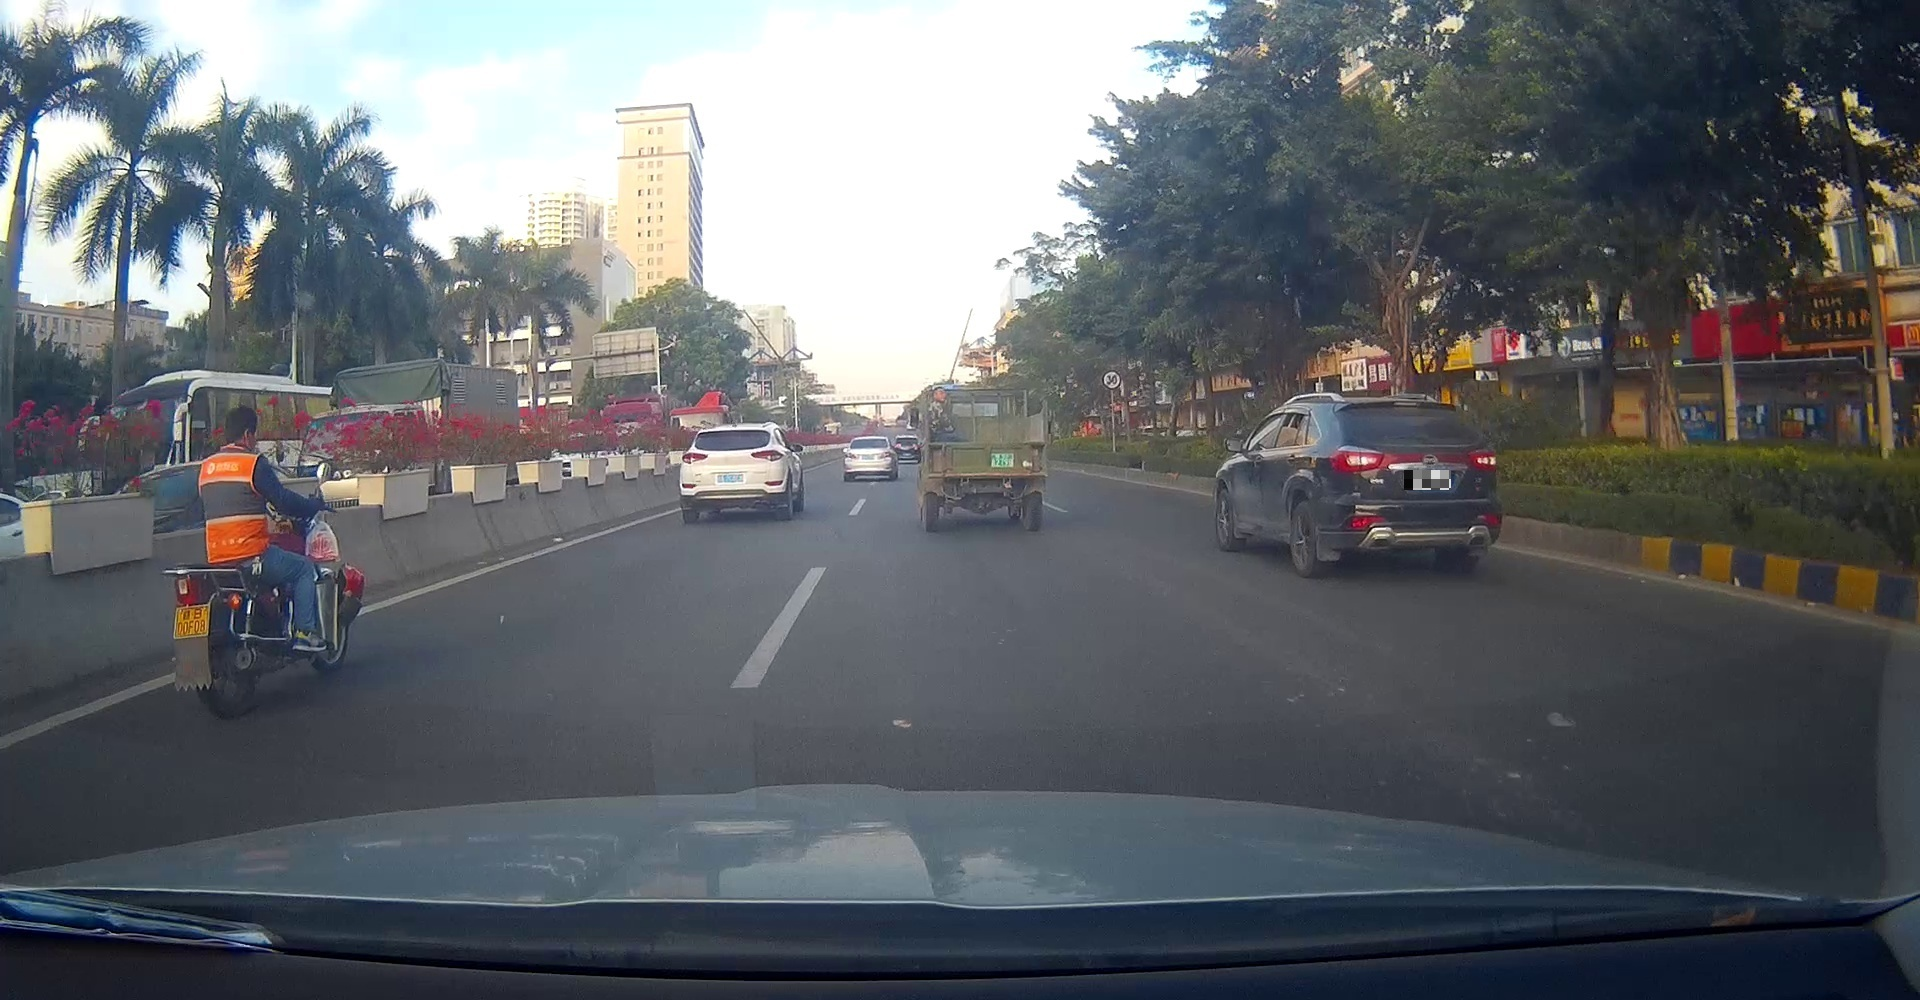L_light: (1327, 443, 1385, 475), (681, 452, 709, 464), (844, 452, 856, 459)
R_light: (1469, 448, 1497, 475), (750, 449, 783, 462), (880, 451, 891, 459)
T_light: (1393, 404, 1422, 412), (865, 437, 876, 440), (728, 429, 742, 431)
day-brake: (1327, 395, 1502, 575)
day-no: (678, 425, 790, 524), (844, 437, 895, 481)
plate_1: (1404, 470, 1451, 490)
